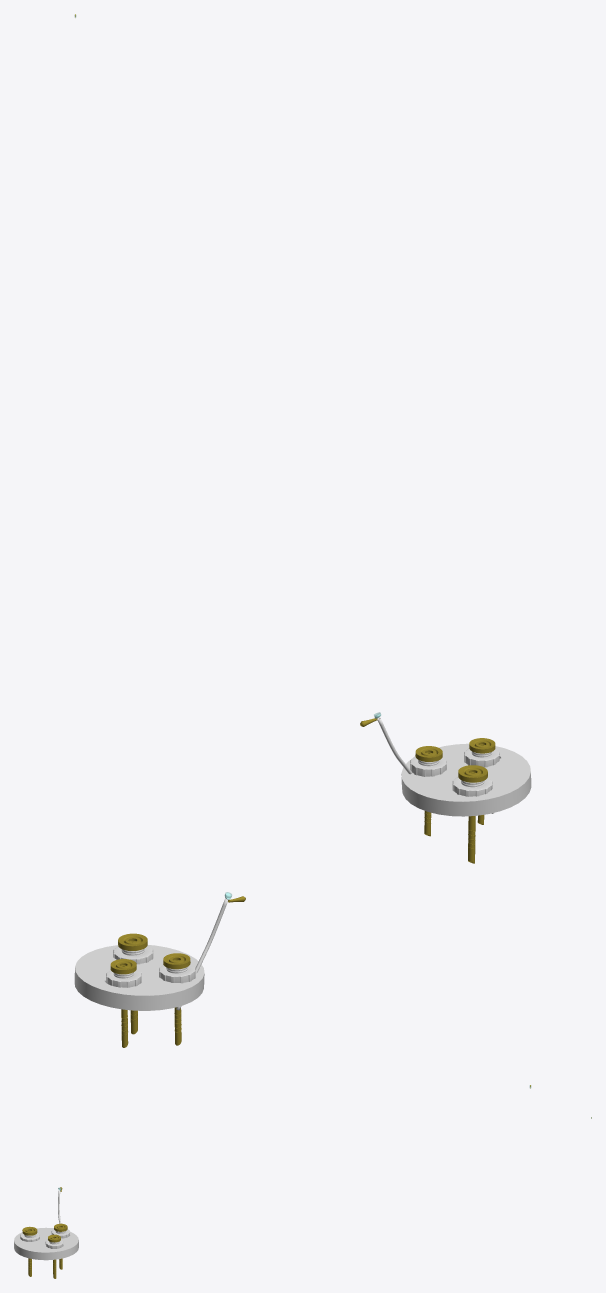
The model's file is port with pipe.fbx.
3 views of the same model, one above another, from view 1: azimuth 30°, elevation 25°; view 2: azimuth 210°, elevation 25°; view 3: azimuth 270°, elevation 25° (orthographic). The views are drawn at different scales.
Visible parts, largest first — view 1: Circle; view 2: Circle, yankauer; view 3: Circle.
Boxes of the visible parts, <box> form: Circle: <box>401,738,531,863</box>; Circle: <box>74,933,204,1047</box>; yankauer: <box>176,898,228,1010</box>; Circle: <box>14,1223,78,1278</box>.
Size of the model in its own units: 0.9388 by 1.45 by 3.81.
